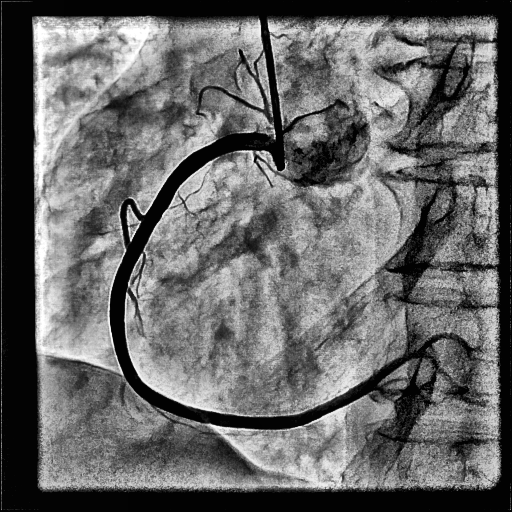pborca: (298, 338, 432, 426)
rca: (110, 133, 299, 429)
